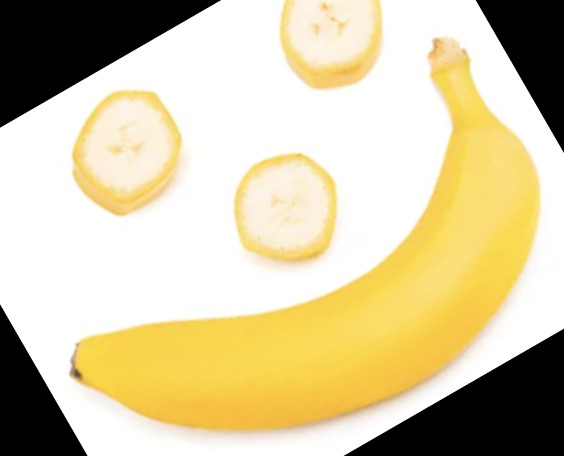fresh_banana: (69, 38, 540, 430)
